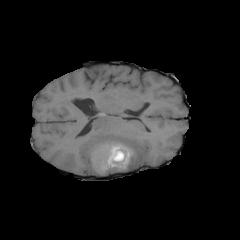glioma: (82, 119, 146, 175)
